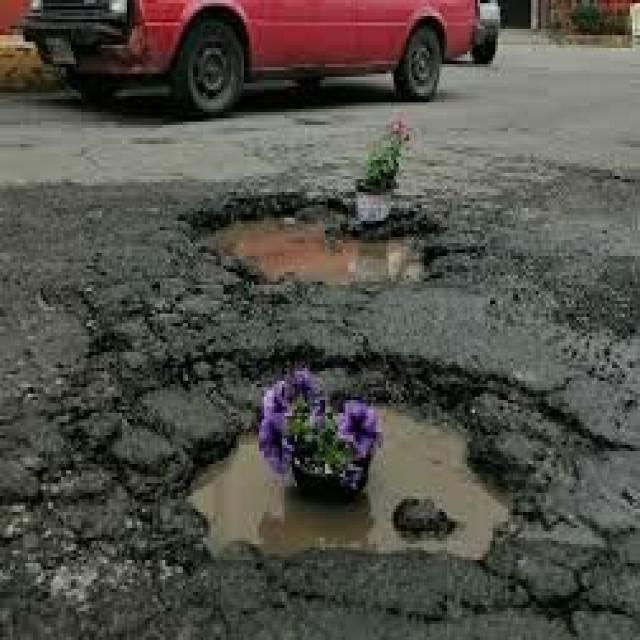Pothole: (28, 153, 617, 640)
